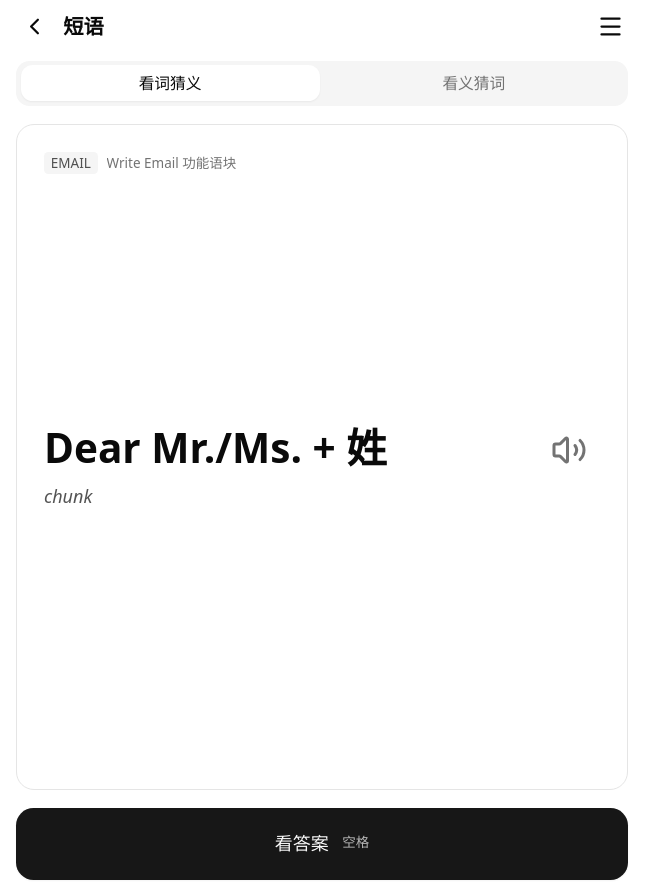
Test: 背诵页 › 自评「记住了」会写入进度、累计战绩并换下一张
The width and height of the screenshot is (645, 893).
What coordinates should you click on to do the following:
click the button "看答案 空格"
I would click on:
 (322, 844)
Its box is x1=16 y1=808 x2=628 y2=880.
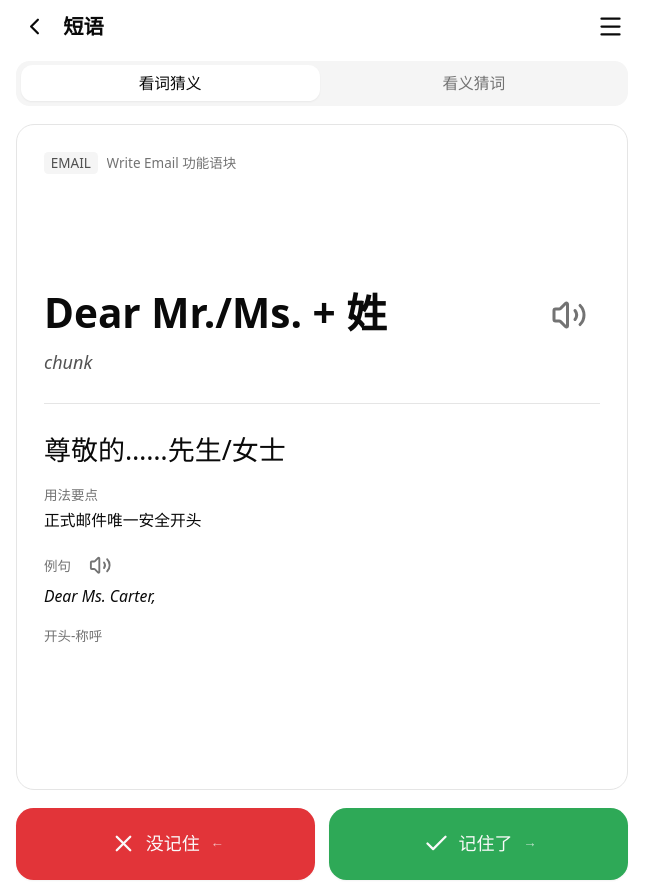
What coordinates should you click on to do the following:
click the button "记住了 →"
I would click on:
 (478, 844)
Its box is x1=329 y1=808 x2=628 y2=880.
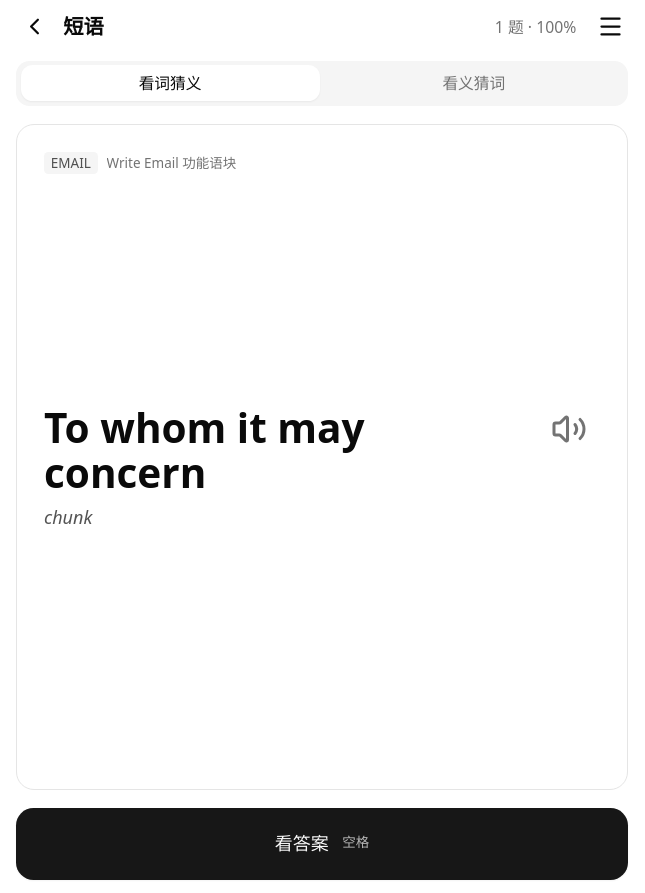
Check: the button "看答案 空格" is shown, box x1=16 y1=808 x2=628 y2=880
